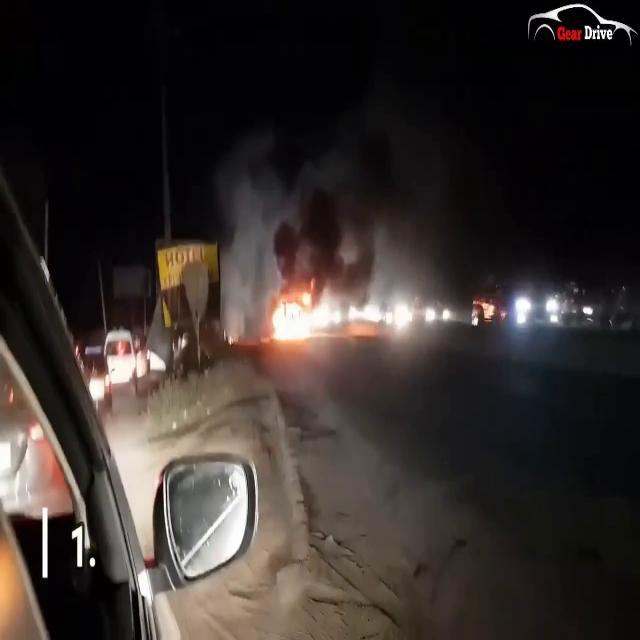Fire: (265, 274, 344, 352)
Smoke: (320, 103, 460, 296), (217, 136, 286, 342)
